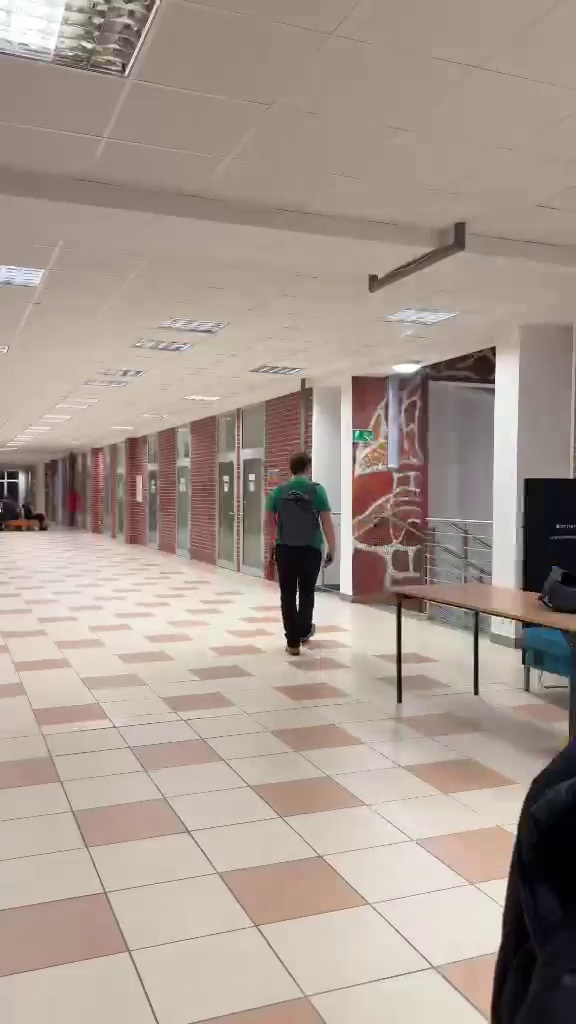no vest: (269, 454, 347, 653)
